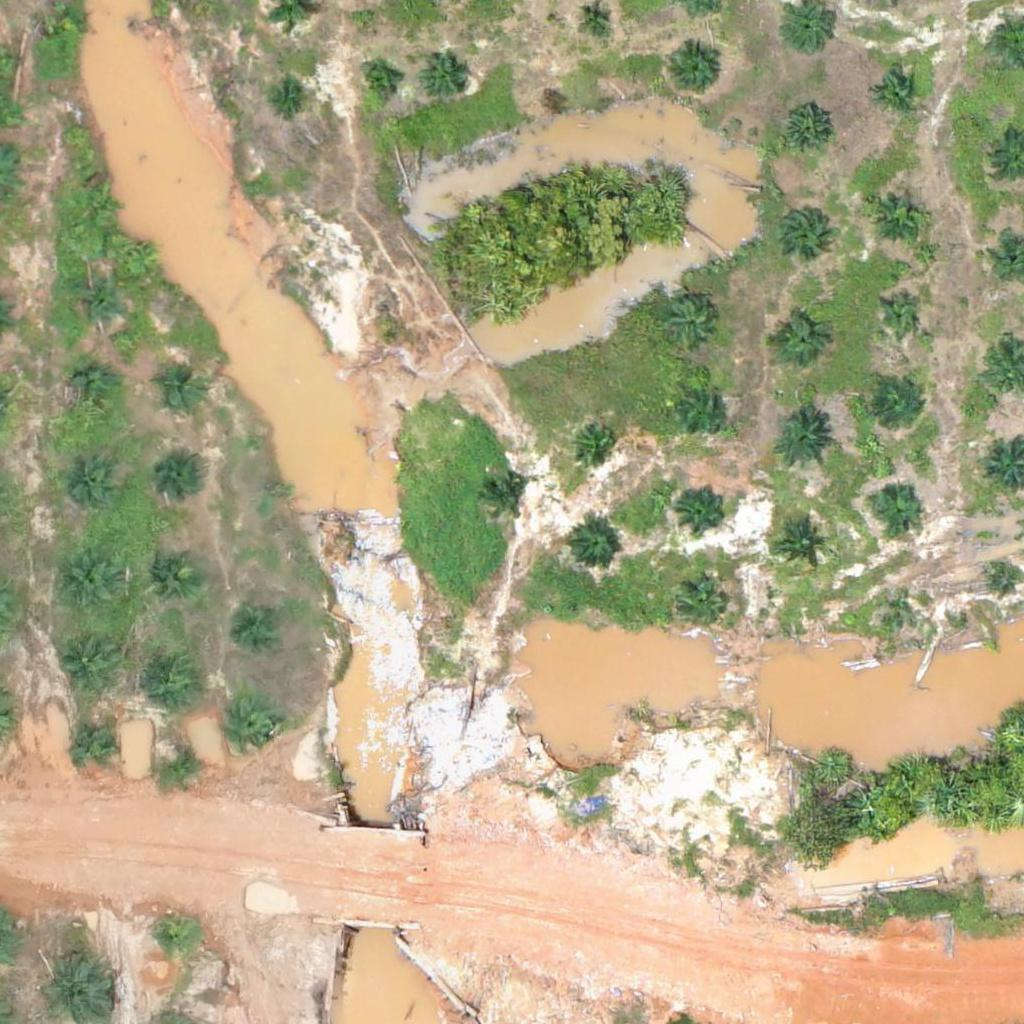Kelapa_Sawit: (58, 455, 121, 518), (56, 552, 119, 615), (143, 648, 206, 711), (57, 633, 120, 696), (772, 411, 835, 474), (143, 543, 205, 606), (663, 40, 725, 103), (867, 182, 929, 245), (70, 718, 120, 769), (156, 739, 206, 790), (870, 478, 920, 529), (874, 379, 924, 430), (772, 316, 822, 367), (783, 2, 833, 53), (666, 301, 716, 352), (677, 384, 727, 435), (677, 482, 727, 533), (777, 521, 827, 572), (780, 103, 830, 154), (871, 67, 921, 118), (159, 454, 209, 504), (73, 280, 123, 330), (69, 365, 119, 415), (155, 364, 205, 414), (777, 206, 827, 256), (568, 522, 618, 572), (227, 705, 277, 755), (237, 600, 287, 650), (149, 913, 199, 963), (679, 583, 729, 633), (571, 418, 621, 468), (480, 474, 530, 524), (421, 52, 471, 102), (81, 187, 119, 225), (272, 79, 310, 117), (359, 62, 397, 100), (880, 295, 917, 333), (49, 1, 86, 39), (991, 564, 1016, 589), (896, 598, 921, 623)
